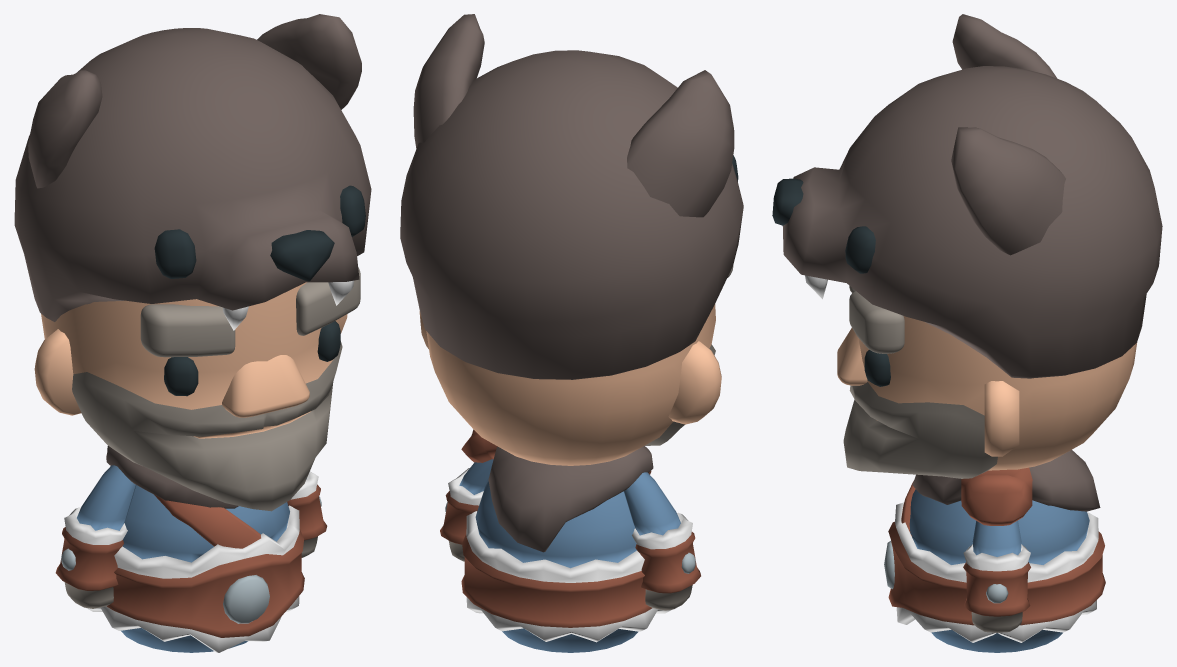
Rendered from character_barbarian.glb.
The picture shows the model from 3 angles, left to right: view 1: azimuth 30°, elevation 25°; view 2: azimuth 150°, elevation 25°; view 3: azimuth 270°, elevation 25°; orthographic projection. The views are drawn at different scales.
Visible parts, largest first — view 1: character_barbarianHat, character_barbarianHead, character_barbarianBody, character_barbarianArmRight, character_barbarianArmLeft; view 2: character_barbarianHat, character_barbarianBody, character_barbarianHead, character_barbarianArmRight, character_barbarianArmLeft; view 3: character_barbarianHat, character_barbarianHead, character_barbarianBody, character_barbarianArmLeft.
Part boxes in pixels (x1,y1,x2,y2): character_barbarianHat: (14, 14, 371, 330); character_barbarianHead: (34, 267, 360, 511); character_barbarianBody: (86, 446, 304, 652); character_barbarianArmRight: (55, 465, 136, 608); character_barbarianArmLeft: (287, 471, 327, 557); character_barbarianHat: (400, 14, 743, 379); character_barbarianBody: (461, 429, 671, 652); character_barbarianHead: (419, 266, 733, 465); character_barbarianArmRight: (623, 472, 700, 610); character_barbarianArmLeft: (440, 459, 493, 561); character_barbarianHat: (772, 14, 1162, 378); character_barbarianHead: (837, 286, 1137, 478); character_barbarianBody: (884, 450, 1105, 652); character_barbarianArmLeft: (963, 520, 1030, 632).
Size of the model in its own units: 1.22 by 2.15 by 1.38.
